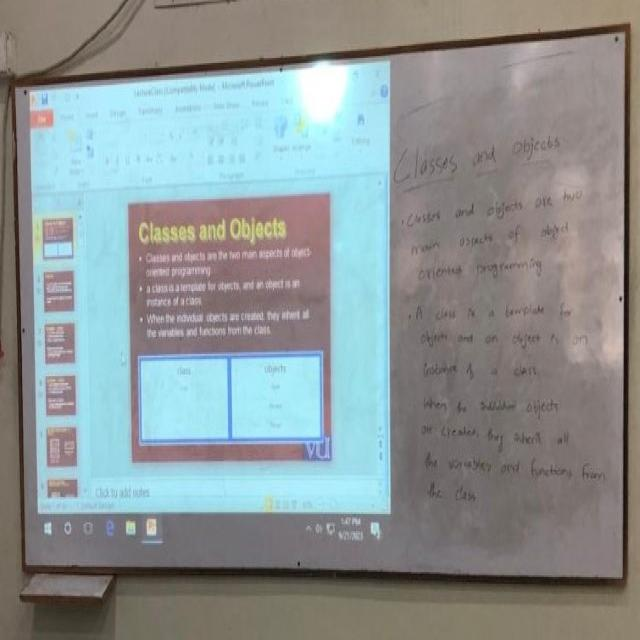Slide: (32, 58, 393, 559)
White-board: (12, 33, 631, 586)
